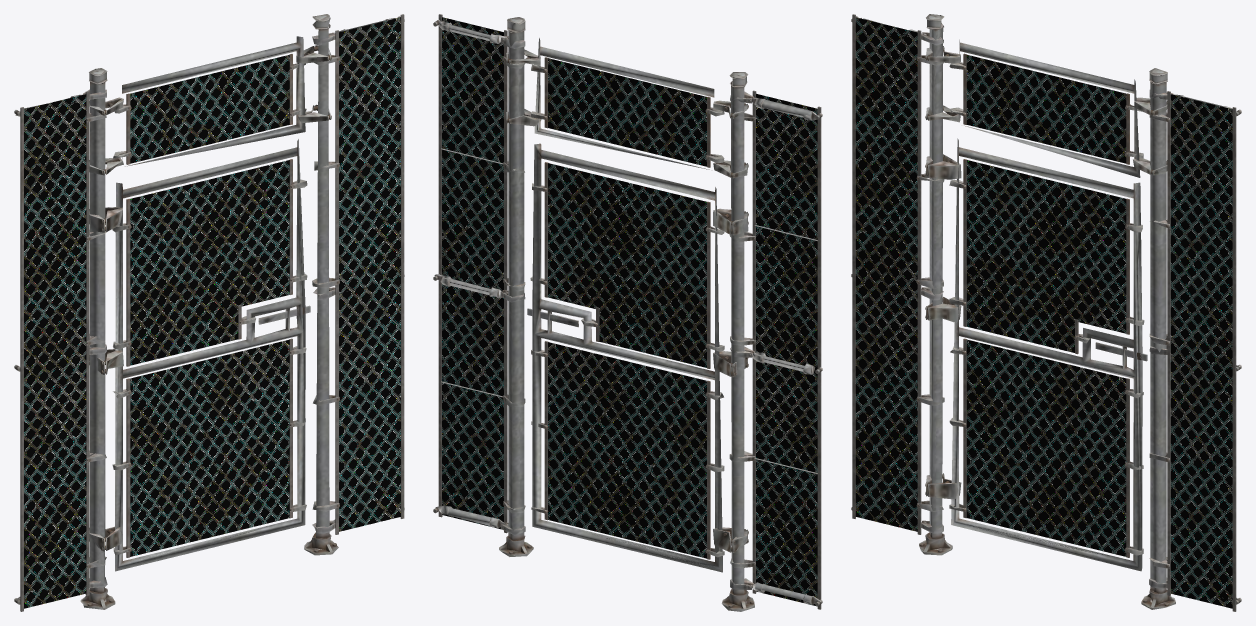
The model's file is modular_chainlink_fence-gate.glb.
The picture shows the model from 3 angles, left to right: view 1: azimuth 30°, elevation 25°; view 2: azimuth 150°, elevation 25°; view 3: azimuth 330°, elevation 25°; orthographic projection.
Visible parts, largest first — view 1: modular_chainlink_fence_door_gate, modular_chainlink_fence_door_latch; view 2: modular_chainlink_fence_door_gate, modular_chainlink_fence_door_latch; view 3: modular_chainlink_fence_door_gate, modular_chainlink_fence_door_latch.
Part boxes in pixels (box(x1,y1,x2,y2)): modular_chainlink_fence_door_gate: box(24, 17, 400, 608); modular_chainlink_fence_door_latch: box(14, 14, 404, 611); modular_chainlink_fence_door_gate: box(442, 17, 817, 606); modular_chainlink_fence_door_latch: box(433, 14, 822, 611); modular_chainlink_fence_door_gate: box(855, 17, 1232, 608); modular_chainlink_fence_door_latch: box(851, 14, 1241, 611).
Bounding box in the file's own units: 1.91 × 2.5 × 0.1483.
2 materials, 2 textured.
